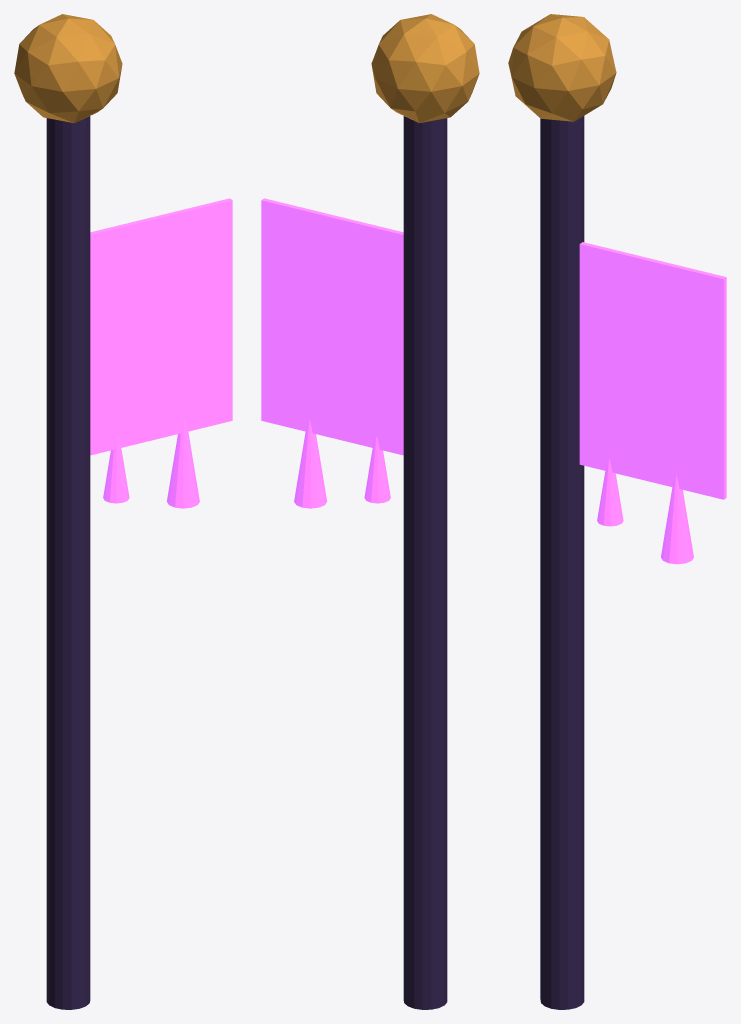
Rendered from abyssal-banner.glb.
3 views of the same model, side by side, from view 1: azimuth 30°, elevation 25°; view 2: azimuth 150°, elevation 25°; view 3: azimuth 330°, elevation 25° (orthographic).
Visible parts, largest first — view 1: banner-pole, banner-cloth, banner-finial, banner-tassel-0, banner-tassel-1; view 2: banner-pole, banner-cloth, banner-finial, banner-tassel-0, banner-tassel-1; view 3: banner-pole, banner-cloth, banner-finial, banner-tassel-0, banner-tassel-1.
Part boxes in pixels (left/top/right/bottom): banner-pole: left=46, top=116, right=90, bottom=1009; banner-cloth: left=90, top=198, right=232, bottom=455; banner-finial: left=14, top=14, right=122, bottom=123; banner-tassel-0: left=167, top=419, right=199, bottom=508; banner-tassel-1: left=103, top=436, right=129, bottom=503; banner-pole: left=403, top=116, right=447, bottom=1009; banner-cloth: left=261, top=198, right=403, bottom=455; banner-finial: left=371, top=14, right=479, bottom=123; banner-tassel-0: left=294, top=419, right=326, bottom=508; banner-tassel-1: left=364, top=436, right=390, bottom=503; banner-pole: left=540, top=116, right=584, bottom=1009; banner-cloth: left=579, top=242, right=726, bottom=499; banner-finial: left=508, top=14, right=616, bottom=121; banner-tassel-0: left=661, top=475, right=693, bottom=564; banner-tassel-1: left=597, top=459, right=623, bottom=526.
Size of the model in its own units: 0.2176 by 0.98 by 0.1.
